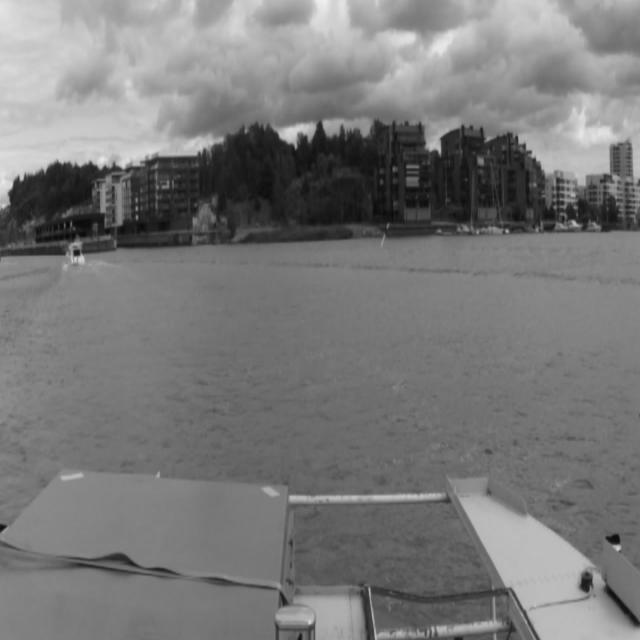buoy: (380, 220, 392, 246)
ship: (480, 162, 510, 234), (66, 240, 86, 265), (569, 219, 583, 233), (457, 224, 471, 236), (587, 221, 601, 232)
